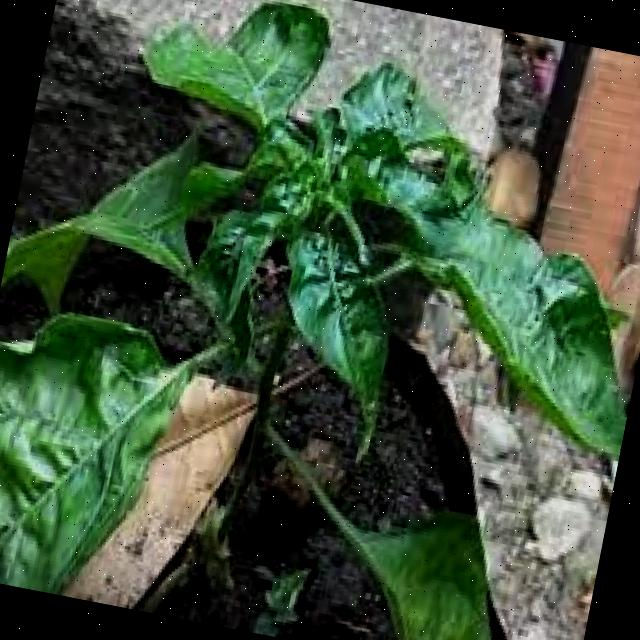leaf curl: (53, 0, 640, 421), (0, 323, 274, 627)
